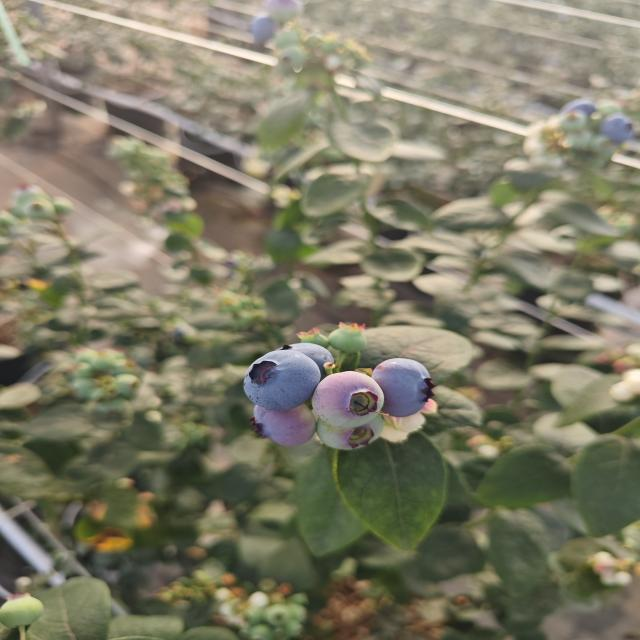ripe: (240, 347, 322, 412), (366, 350, 439, 421)
